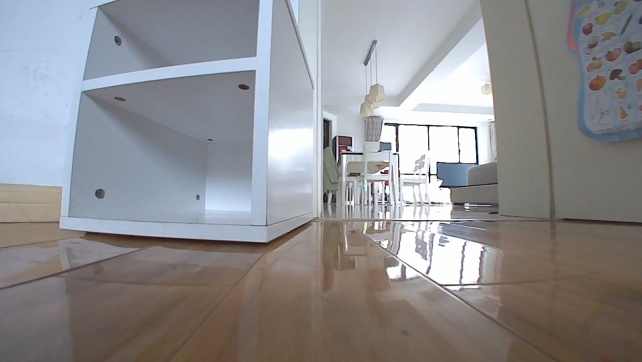dining_table: (322, 137, 401, 208)
sofa1: (444, 158, 499, 209)
